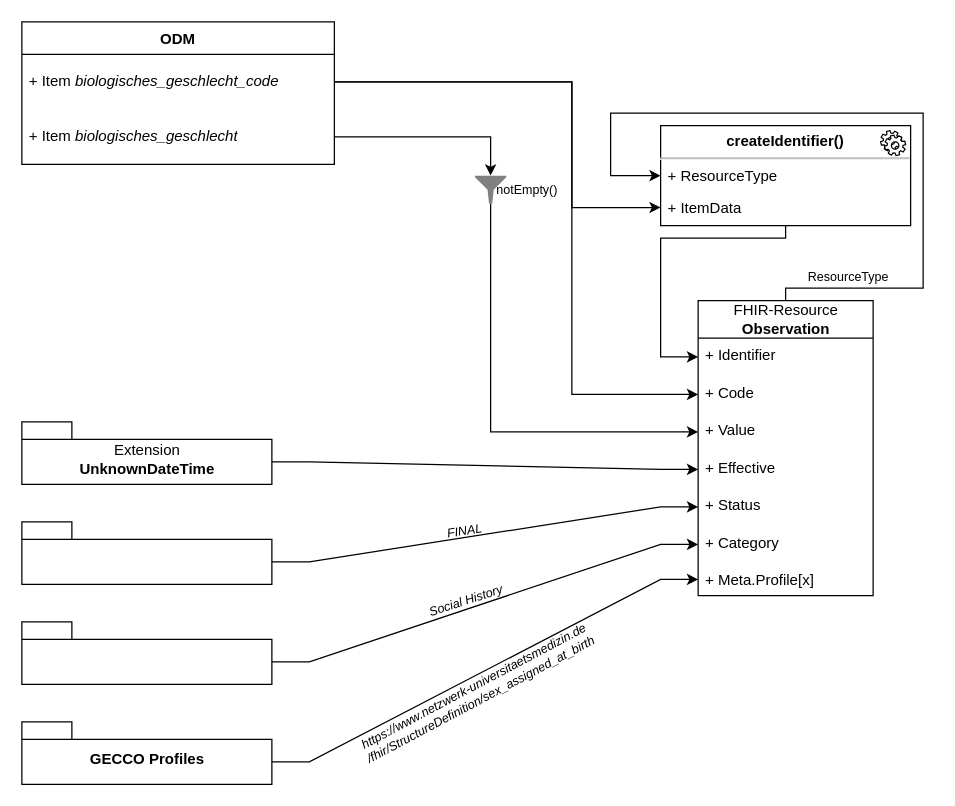
Image size: 955x806. Some labels were removed from this diagram. The shapes that lost their labels are listed below. From the top down, each one's centre as x and y in pixels, then its label:
At [146,552]: "ValueSet ObservationStatus".
At [146,652]: "ValueSet ObservationCategoryCodes".
